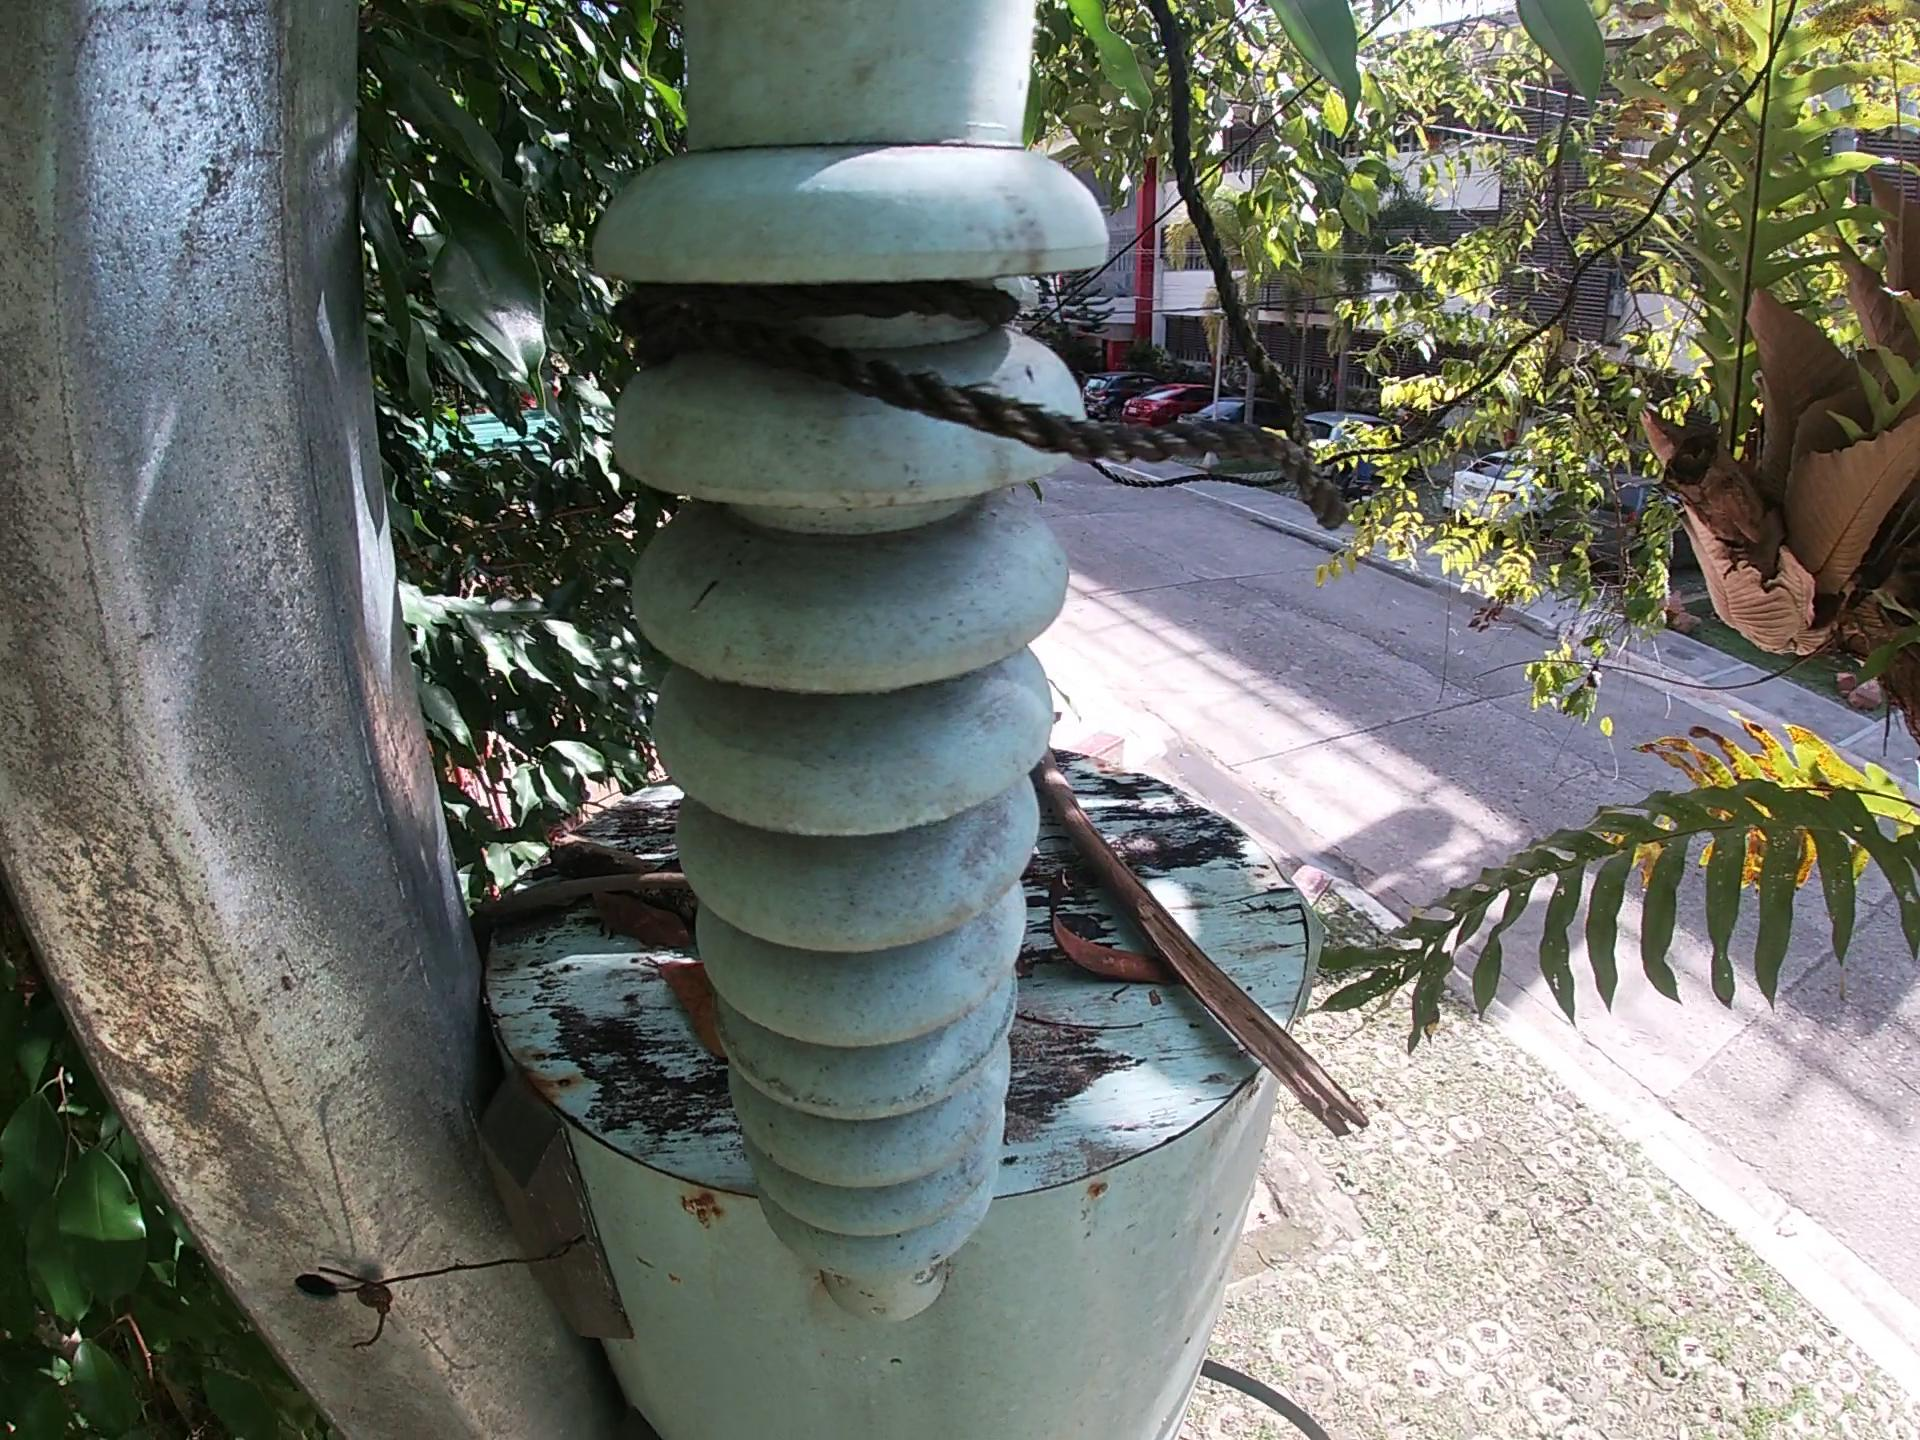leaf: (644, 945, 733, 1066), (584, 889, 694, 954)
mahogany fruit: (1043, 868, 1178, 988)
tree branch: (1031, 743, 1373, 1145), (469, 864, 694, 929), (552, 832, 697, 923)
